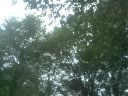window: (23, 0, 128, 96)
